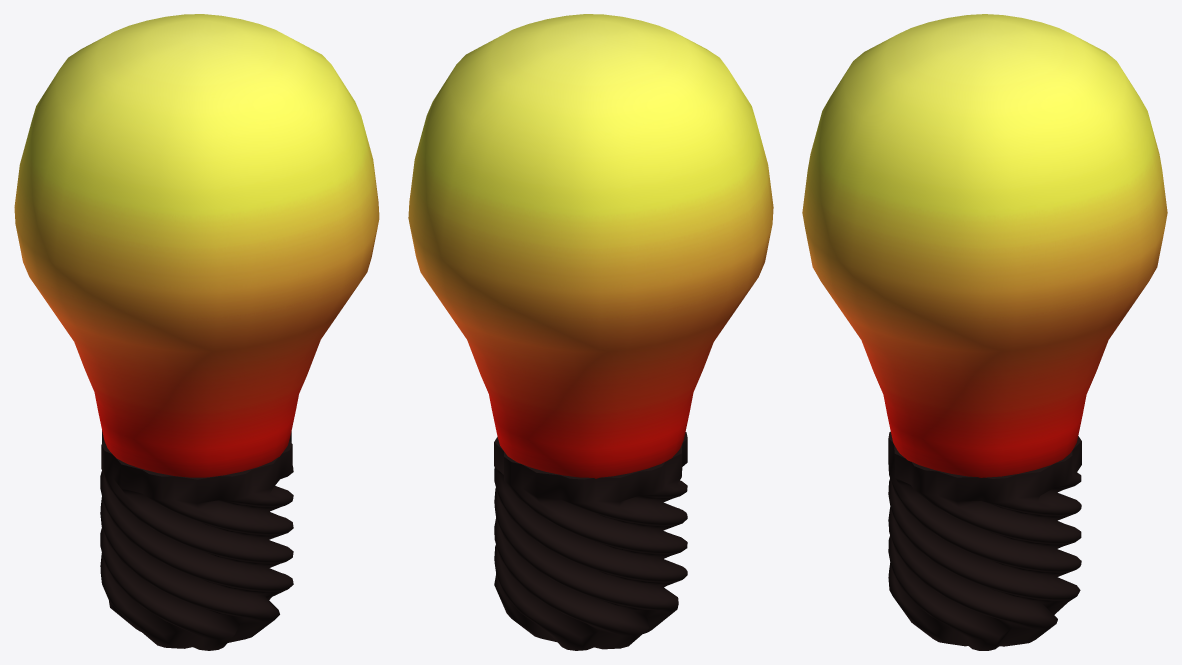
File: light_bulb (1).FBX
3 renders of one model, left to right at view 1: azimuth 30°, elevation 25°; view 2: azimuth 150°, elevation 25°; view 3: azimuth 270°, elevation 25°, orthographic.
Visible parts, largest first — view 1: llight_bulb; view 2: llight_bulb; view 3: llight_bulb.
Part boxes in pixels (left/top/right/bottom): llight_bulb: left=14, top=14, right=379, bottom=650; llight_bulb: left=408, top=14, right=773, bottom=650; llight_bulb: left=802, top=14, right=1167, bottom=650.
Size of the model in its own units: 5.92 by 10.52 by 5.76.
